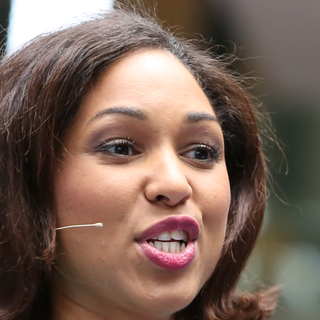eye: (92, 136, 142, 164), (178, 139, 217, 167)
